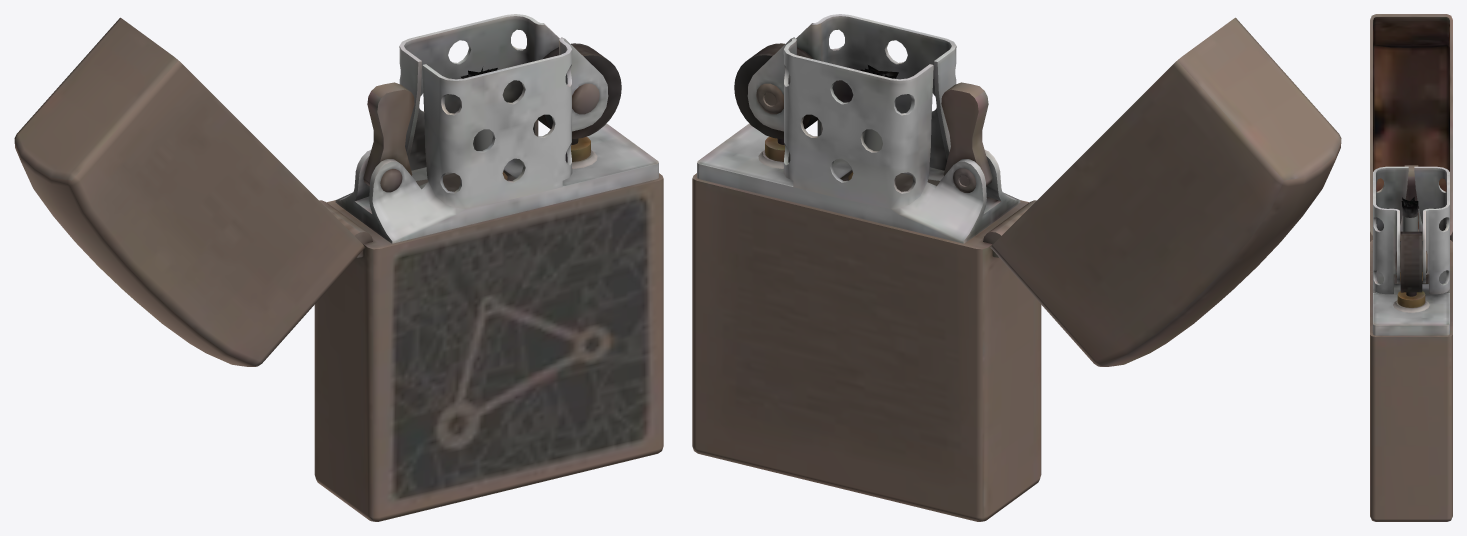
Rendered from vintage_lighter.glb.
The picture shows the model from 3 angles, left to right: view 1: azimuth 30°, elevation 25°; view 2: azimuth 150°, elevation 25°; view 3: azimuth 270°, elevation 25°; orthographic projection. The views are drawn at different scales.
Parts seen in each view (by area): view 1: vintage_lighter_body; view 2: vintage_lighter_body; view 3: vintage_lighter_body.
Part boxes in pixels (<box>): vintage_lighter_body: <box>14,14,663,521</box>; vintage_lighter_body: <box>692,14,1341,521</box>; vintage_lighter_body: <box>1370,14,1452,521</box>.
Size of the model in its own units: 0.0796 by 0.065 by 0.014.
2 materials, 2 textured.
